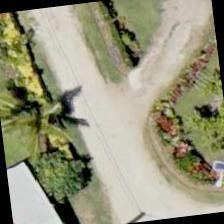Kelapa_Sawit: (0, 66, 89, 166)
